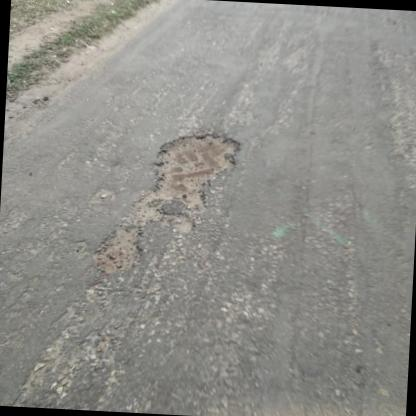pothole: (148, 126, 242, 209), (88, 222, 142, 275)
